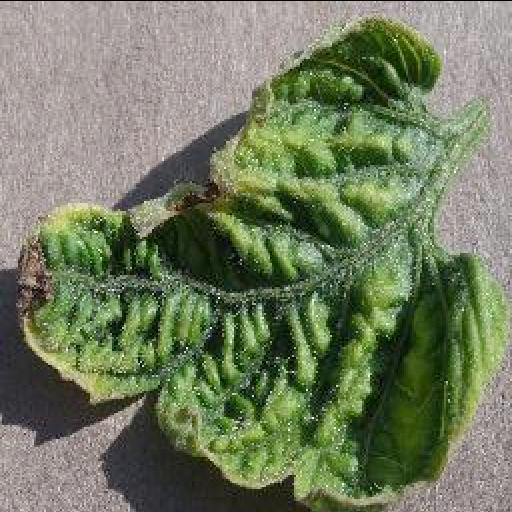disease_tomato: (12, 22, 498, 504)
